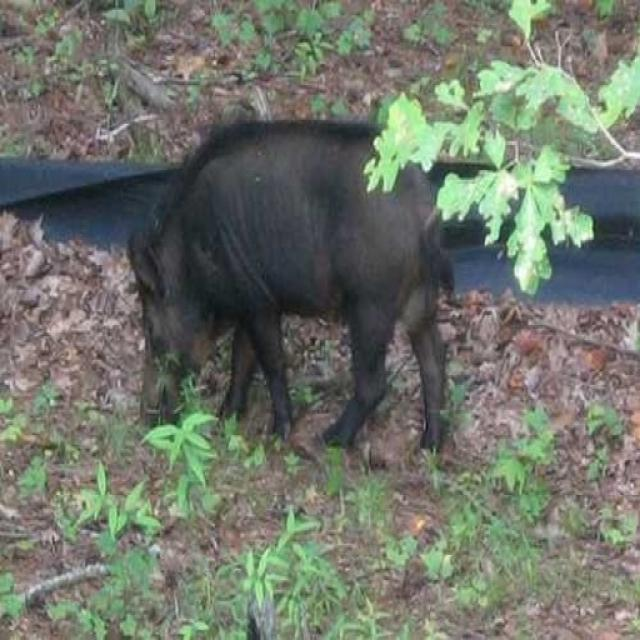pig: (116, 61, 462, 460)
